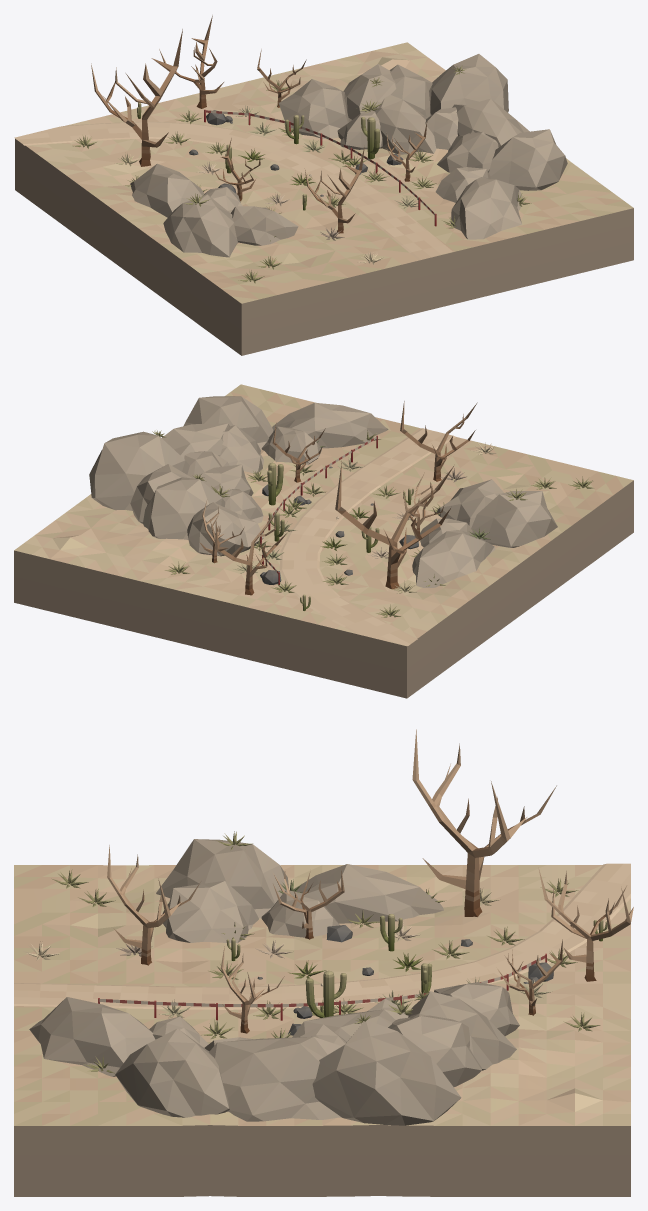
The model's file is Desert_cleaned.fbx.
3 renders of one model, top to bottom at view 1: azimuth 30°, elevation 25°; view 2: azimuth 150°, elevation 25°; view 3: azimuth 270°, elevation 25°, orthographic. The views are drawn at different scales.
Visible parts, largest first — view 1: Desert cleaned; view 2: Desert cleaned; view 3: Desert cleaned.
Part boxes in pixels (x1,y1,x2,y2): Desert cleaned: (14, 15, 633, 355); Desert cleaned: (14, 384, 633, 698); Desert cleaned: (14, 729, 633, 1196).
Bounding box in the file's own units: 4104 × 1675 × 4020.
1 material, 1 textured.
